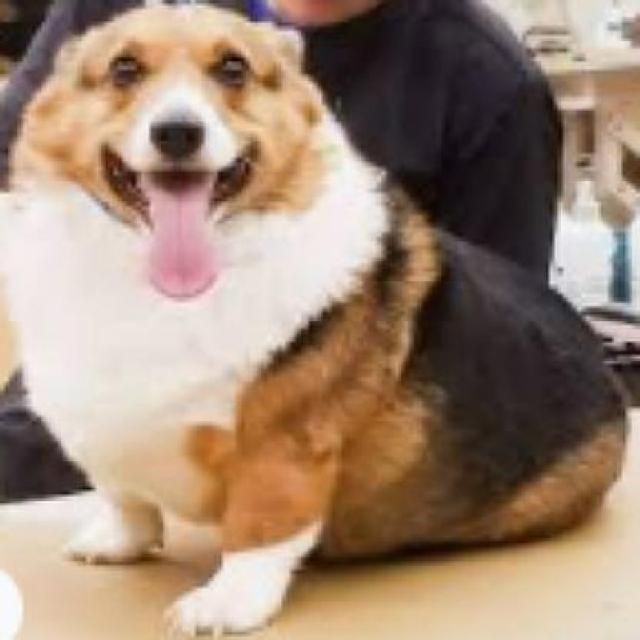Dog: (0, 3, 638, 638)
